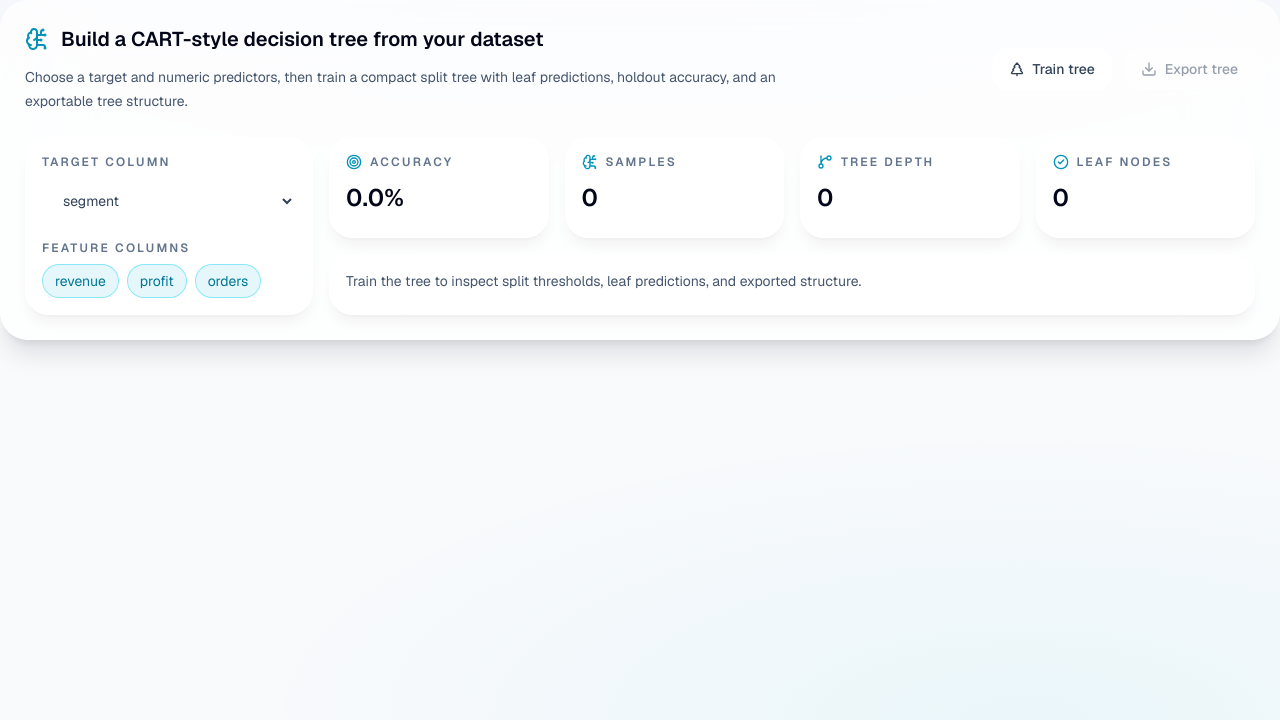
Scenario: DecisionTreeView › trains a tree and renders leaf predictions
Click the button "Train tree": (1052, 69) [992,48,1112,90]
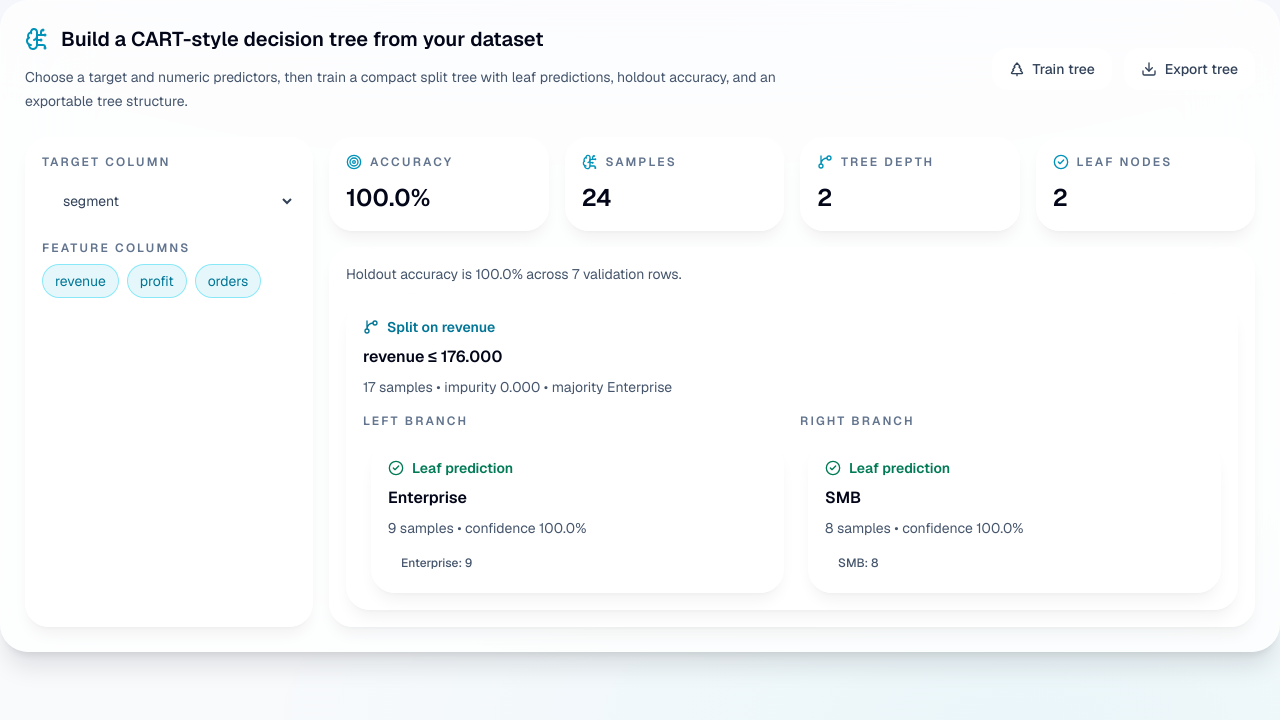
Now the text "Holdout accuracy is 100.0% across 7 validation rows." is shown, box [346,265,682,283]
Now the text "Leaf prediction" below "Left branch" is shown, box [412,459,513,477]
Now the text "17 samples • impurity 0.000 • majority Enterprise" is shown, box [363,378,672,396]
